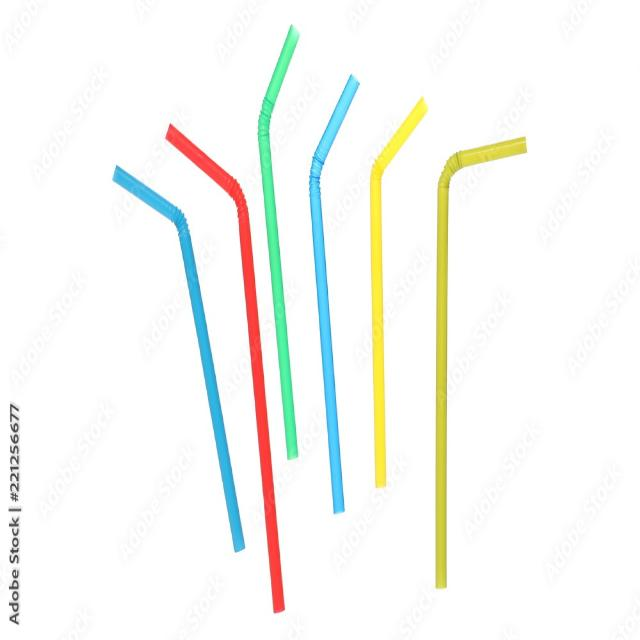plastic: (423, 136, 539, 594)
